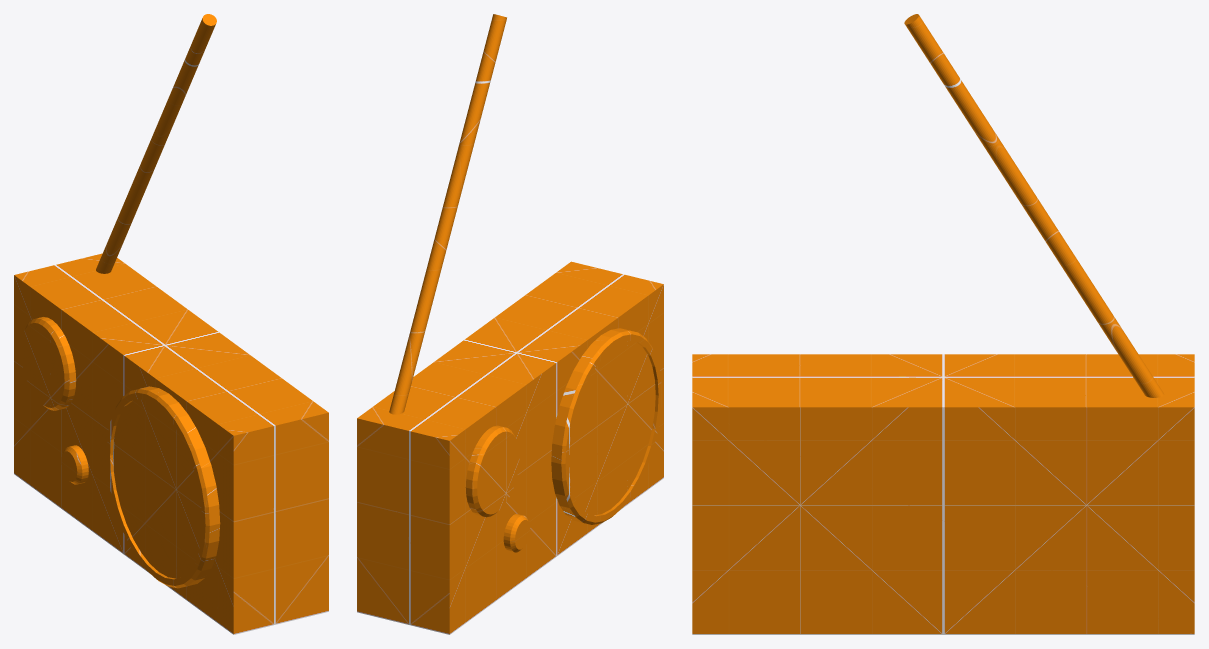
The model's file is radio.glb.
3 views of the same model, side by side, from view 1: azimuth 30°, elevation 25°; view 2: azimuth 150°, elevation 25°; view 3: azimuth 270°, elevation 25° (orthographic). The views are drawn at different scales.
Parts seen in each view (by area): view 1: RigidBody3D.002; view 2: RigidBody3D.002; view 3: RigidBody3D.002.
Part boxes in pixels (x1,y1,x2,y2): RigidBody3D.002: (14, 14, 328, 634); RigidBody3D.002: (357, 14, 663, 634); RigidBody3D.002: (692, 14, 1194, 634).
Size of the model in its own units: 0.1422 by 0.6662 by 0.5.
Materials: 1 (1 with a texture image).
